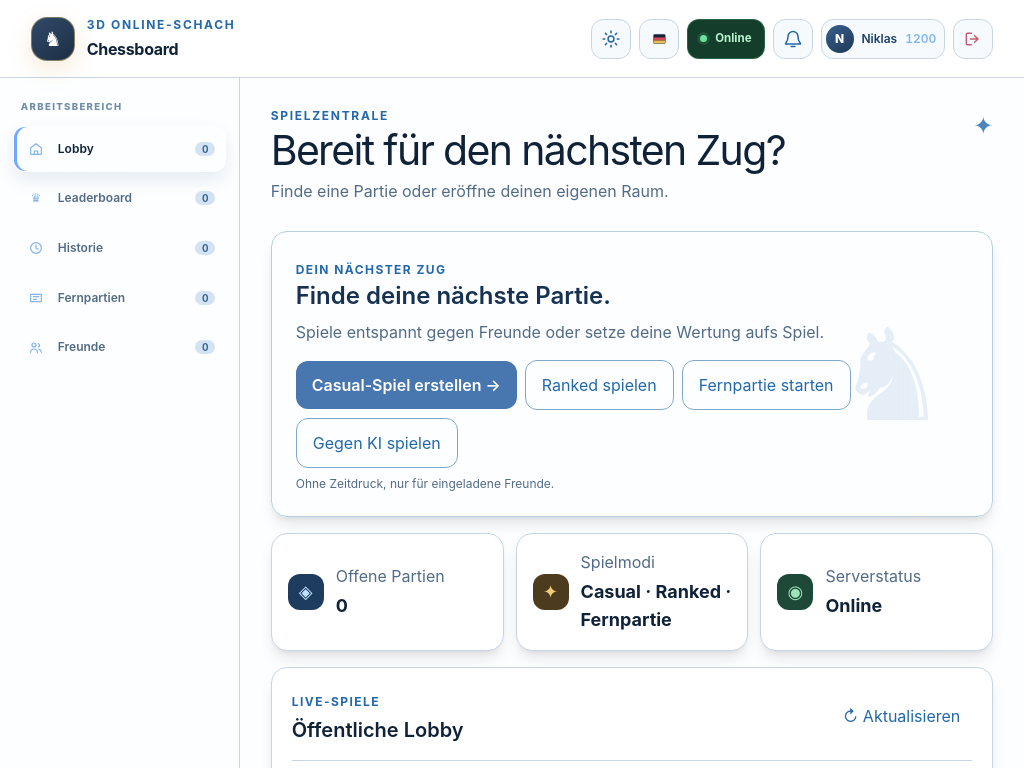
Test: App › takes a friendship request notification to the friends area
This screenshot has width=1024, height=768.
expect the heading "Bereit für den nächsten Zug?" is shown: met, box 271,130 -> 785,171
Click the button named "Benachrichtigungen" at (792, 38), box 772,18 -> 812,58
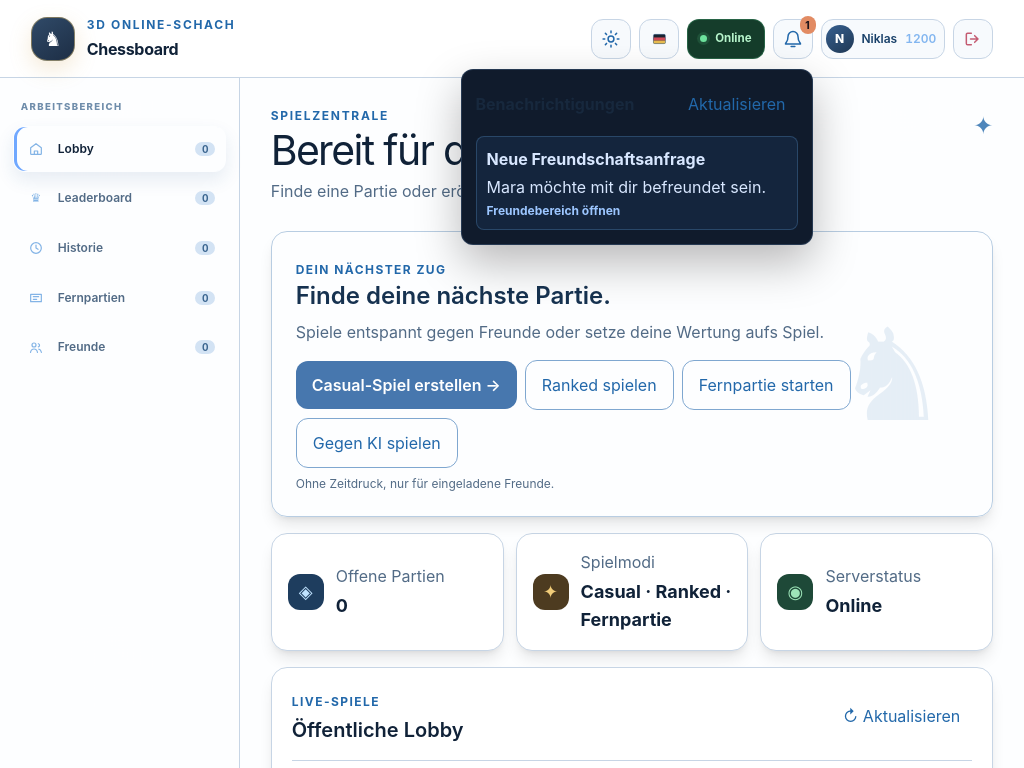
Click the link named "Freundebereich öffnen" at (636, 183), box 476,136 -> 798,230
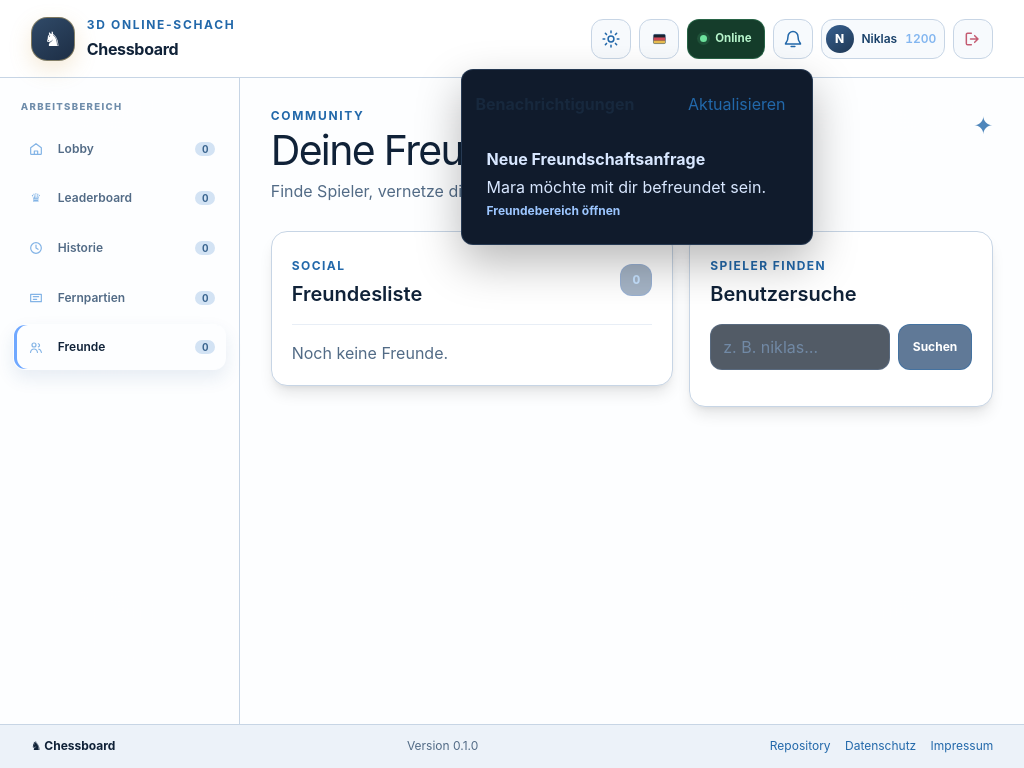
expect the heading "Deine Freunde" is shown: met, box 271,125 -> 531,175
